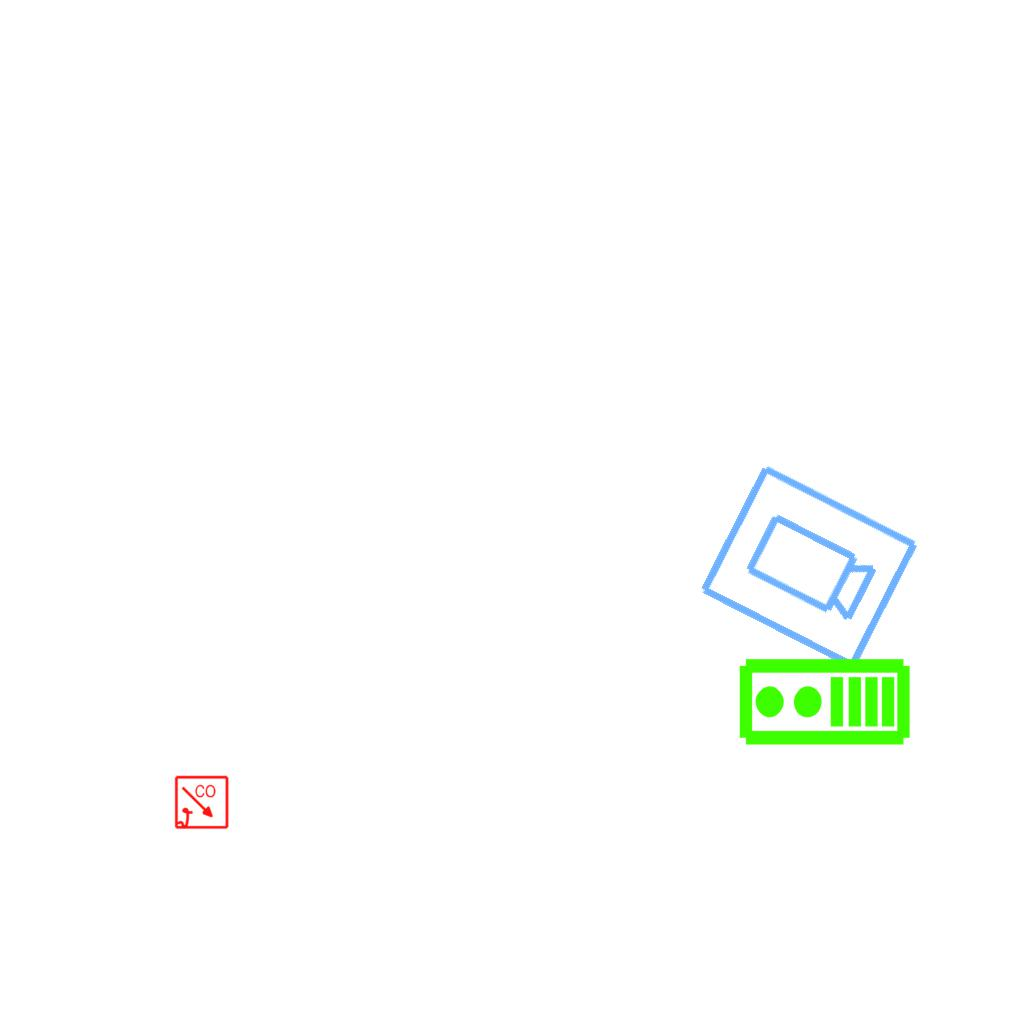Gegensprechanlage_mit_Video: (736, 656, 912, 751)
KFO_Kamera_mit_Festobjektiv: (691, 458, 925, 678)
ROA_Rauchmelder_optisch_mit_Signalgeber_(Sockelsirene): (174, 775, 230, 831)
